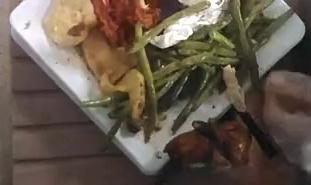green_beans: (137, 0, 292, 142)
unknown: (82, 28, 145, 121), (44, 0, 159, 47)
